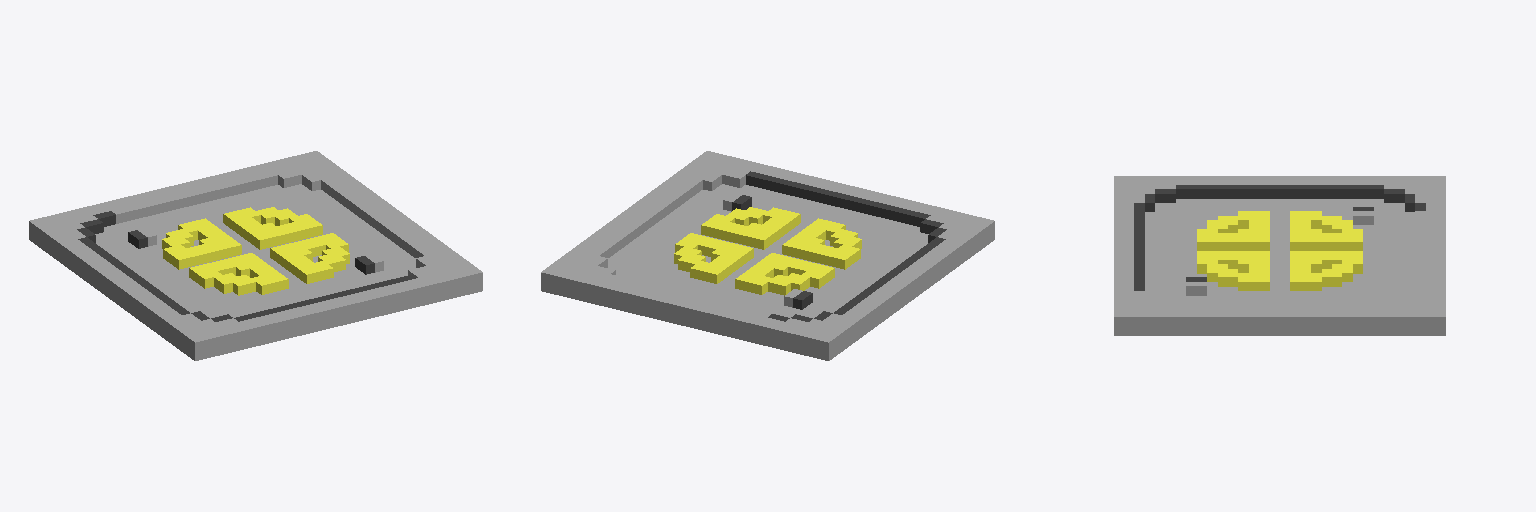
The picture shows the model from 3 angles: view 1: azimuth 30°, elevation 25°; view 2: azimuth 150°, elevation 25°; view 3: azimuth 270°, elevation 25°; orthographic projection.
Bounding box in the file's own units: 32 × 2 × 32.
1 materials, 1 textured.